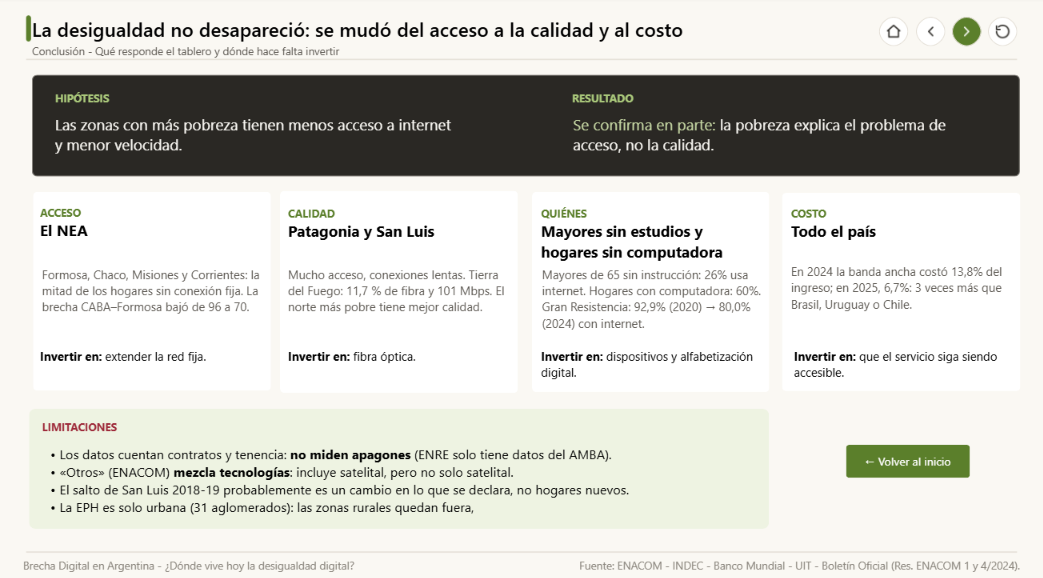

Layout of this report page (visuals, bound fields, positions):
{"tool":"powerbi","page":{"name":"6.Conclusión","canvas":[1280,720],"ordinal":6},"visuals":[{"type":"textbox","box":[39.4,23,931,37.2],"z":0},{"type":"shape","box":[343.6,238,292,248],"z":0,"group":"g2"},{"type":"shape","box":[40.5,239.3,292,244.2],"z":0,"group":"g1"},{"type":"shape","box":[652.8,239.3,291.3,245.8],"z":0,"group":"g3"},{"type":"shape","box":[959.5,240.5,292.5,243.4],"z":0,"group":"g4"},{"type":"textbox","box":[39.8,57.1,562,25.5],"z":1000},{"type":"actionButton","box":[1079.1,24.5,36,36],"z":2000},{"type":"actionButton","box":[1124,24,36,36],"z":3000},{"type":"textbox","box":[28,687.8,421.2,28],"z":4000},{"type":"textbox","box":[652,688,600,28],"z":5000},{"type":"group","id":"g1","title":"Grupo 1","box":[40.5,239.3,292,244.2],"z":6000},{"type":"shape","box":[39.4,95.2,1212.2,124.7],"z":7000},{"type":"textbox","box":[67.8,114.9,484.6,28.4],"z":8000},{"type":"textbox","box":[67.8,143.3,496.7,61.3],"z":9000},{"type":"textbox","box":[701.3,114.9,484.6,28.4],"z":10000},{"type":"textbox","box":[703.5,143.3,496.7,61.3],"z":11000},{"type":"group","id":"g2","title":"Grupo 1","box":[343.6,238,293.3,247.9],"z":12000},{"type":"group","id":"g3","title":"Grupo 1","box":[652.8,239.3,292,246.6],"z":13000},{"type":"group","id":"g4","title":"Grupo 1","box":[959.5,240.5,293.3,242.9],"z":14000},{"type":"textbox","box":[49.1,255.2,180.4,18.4],"z":15000},{"type":"textbox","box":[51.5,330.1,271.2,88.3],"z":16000},{"type":"textbox","box":[49.1,273.6,147.2,31.9],"z":17000},{"type":"textbox","box":[49.1,430.7,261.4,24.5],"z":18000},{"type":"textbox","box":[353.6,256.4,180.4,18.4],"z":19000},{"type":"textbox","box":[353.4,330.1,271.2,88.3],"z":20000},{"type":"textbox","box":[353.4,274.8,271.2,31.9],"z":21000},{"type":"textbox","box":[353.4,430.7,261.4,24.5],"z":22000},{"type":"textbox","box":[663.7,256.4,180.4,18.4],"z":23000},{"type":"textbox","box":[665,330.1,271.2,88.3],"z":24000},{"type":"textbox","box":[663.8,274.8,271.2,55.2],"z":25000},{"type":"textbox","box":[663.8,430.7,261.4,45.4],"z":26000},{"type":"textbox","box":[974.2,255.2,180.4,18.4],"z":27000},{"type":"textbox","box":[974.2,323.9,271.2,78.5],"z":28000},{"type":"textbox","box":[974.2,274.8,233.1,36.8],"z":29000},{"type":"textbox","box":[974.2,430.7,261.4,49.1],"z":30000},{"type":"shape","box":[35.6,505.5,908,147.2],"z":31000},{"type":"textbox","box":[51.5,519,195.1,30.7],"z":32000},{"type":"textbox","box":[49.1,549.7,765.6,89.6],"z":33000},{"type":"actionButton","box":[1038,549.7,152.1,40.5],"z":34000}]}

Visuals, with their boxes in screenshot pixels (x1, y1, x2, y2), scaled from the page's 1280x720 canvas onto the 1043x578 screenshot:
textbox: <region>32, 18, 791, 48</region>
shape: <region>280, 191, 518, 390</region>
shape: <region>33, 192, 271, 388</region>
shape: <region>532, 192, 769, 389</region>
shape: <region>782, 193, 1020, 388</region>
textbox: <region>32, 46, 490, 66</region>
actionButton: <region>879, 20, 909, 49</region>
actionButton: <region>916, 19, 945, 48</region>
textbox: <region>23, 552, 366, 575</region>
textbox: <region>531, 552, 1020, 575</region>
"Grupo 1" group: <region>33, 192, 271, 388</region>
shape: <region>32, 76, 1020, 177</region>
textbox: <region>55, 92, 450, 115</region>
textbox: <region>55, 115, 460, 164</region>
textbox: <region>571, 92, 966, 115</region>
textbox: <region>573, 115, 978, 164</region>
"Grupo 1" group: <region>280, 191, 519, 390</region>
"Grupo 1" group: <region>532, 192, 770, 390</region>
"Grupo 1" group: <region>782, 193, 1021, 388</region>
textbox: <region>40, 205, 187, 220</region>
textbox: <region>42, 265, 263, 336</region>
textbox: <region>40, 220, 160, 245</region>
textbox: <region>40, 346, 253, 365</region>
textbox: <region>288, 206, 435, 221</region>
textbox: <region>288, 265, 509, 336</region>
textbox: <region>288, 221, 509, 246</region>
textbox: <region>288, 346, 501, 365</region>
textbox: <region>541, 206, 688, 221</region>
textbox: <region>542, 265, 763, 336</region>
textbox: <region>541, 221, 762, 265</region>
textbox: <region>541, 346, 754, 382</region>
textbox: <region>794, 205, 941, 220</region>
textbox: <region>794, 260, 1015, 323</region>
textbox: <region>794, 221, 984, 250</region>
textbox: <region>794, 346, 1007, 385</region>
shape: <region>29, 406, 769, 524</region>
textbox: <region>42, 417, 201, 441</region>
textbox: <region>40, 441, 664, 513</region>
actionButton: <region>846, 441, 970, 474</region>
